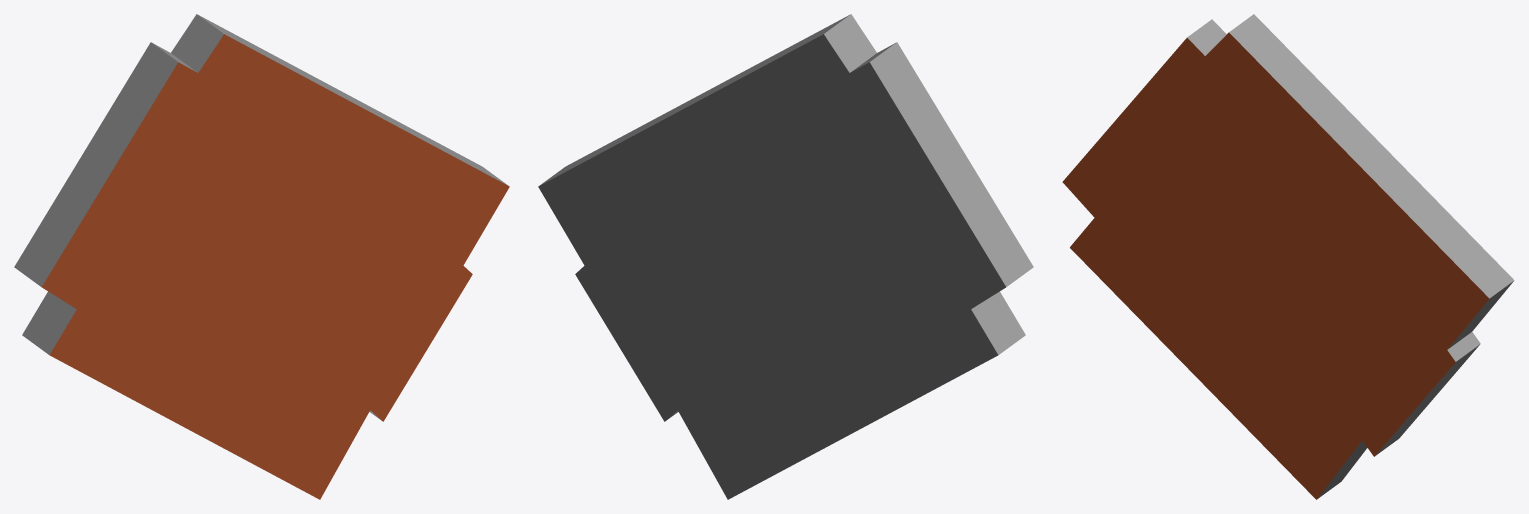
File: construction_6778_assumed_A_Casa_h6m.obj
3 renders of one model, left to right at view 1: azimuth 30°, elevation 25°; view 2: azimuth 150°, elevation 25°; view 3: azimuth 330°, elevation 25°, orthographic. The views are drawn at different scales.
Visible parts, largest first — view 1: construction_6778_assumed_A_Casa; view 2: construction_6778_assumed_A_Casa; view 3: construction_6778_assumed_A_Casa.
Part boxes in pixels (x1,y1,x2,y2): construction_6778_assumed_A_Casa: (14, 14, 509, 499); construction_6778_assumed_A_Casa: (538, 14, 1033, 499); construction_6778_assumed_A_Casa: (1062, 14, 1514, 499).
Bounding box in the file's own units: 59.03 × 58.93 × 6.
